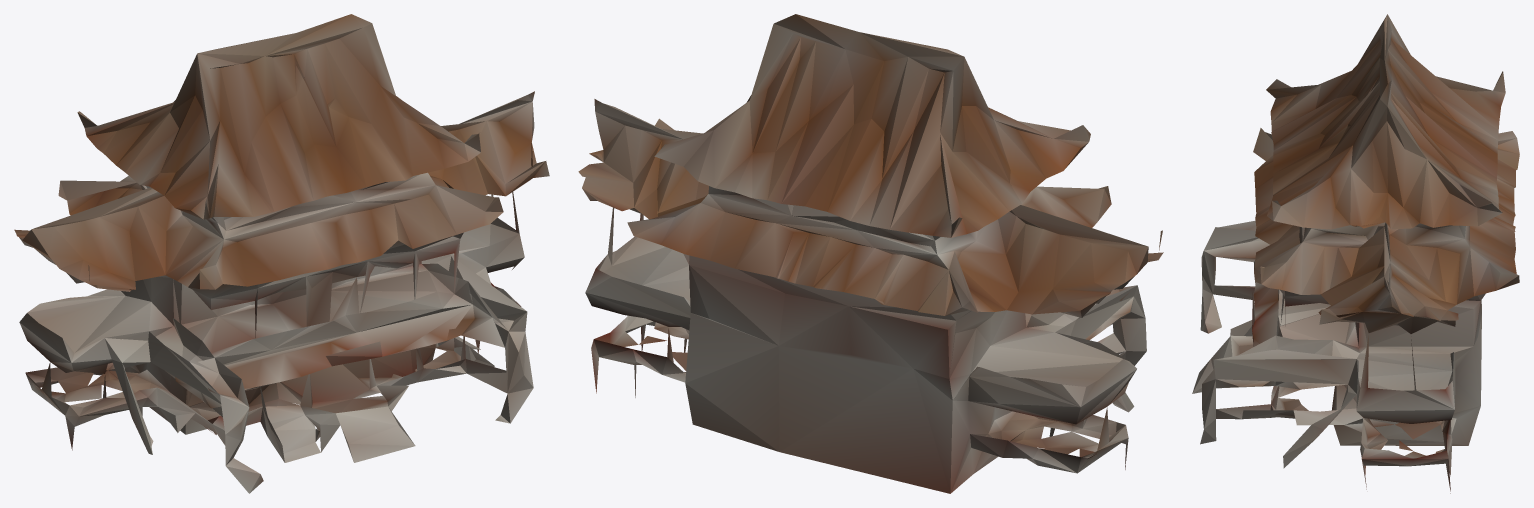
Rendered from palace_grand.vc2.glb.
3 renders of one model, left to right at view 1: azimuth 30°, elevation 25°; view 2: azimuth 150°, elevation 25°; view 3: azimuth 270°, elevation 25°, orthographic. The views are drawn at different scales.
Parts seen in each view (by area): view 1: palace_grand; view 2: palace_grand; view 3: palace_grand.
Part boxes in pixels (left/top/right/bottom): palace_grand: left=14, top=14, right=549, bottom=493; palace_grand: left=578, top=14, right=1163, bottom=493; palace_grand: left=1192, top=14, right=1519, bottom=493.
Bounding box in the file's own units: 1.86 × 1.27 × 1.11.
